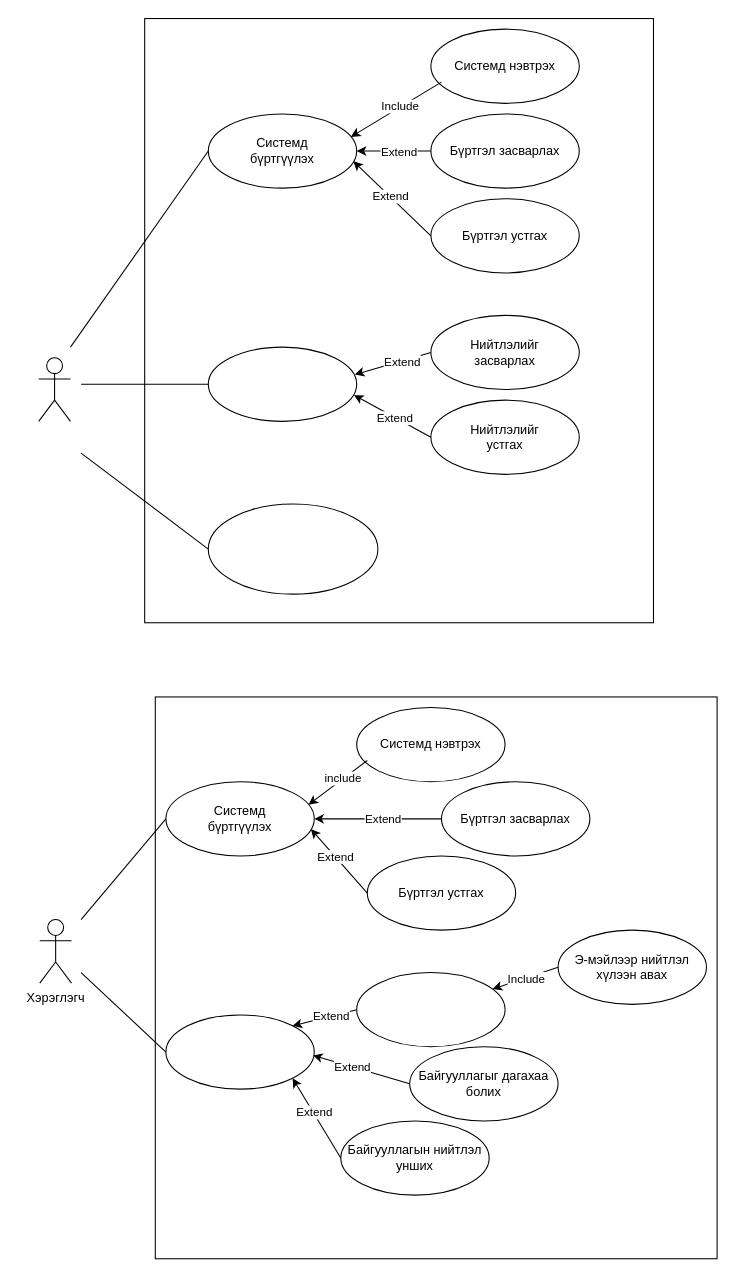
This 736x1277 diagram has some shape labels left out. The centre of each missing label's shape, as x and y in pixels:
Байгууллага: pixel 54 389
Байгууллагыг дагах: pixel 430 1009
Байгууллагын профайл харах: pixel 239 1051
Нийтлэл оруулах: pixel 282 383
Тухайн байгууллагыг дагадаг хэрэглэгчдийн нас, хүйсийн статистик харах: pixel 292 548
